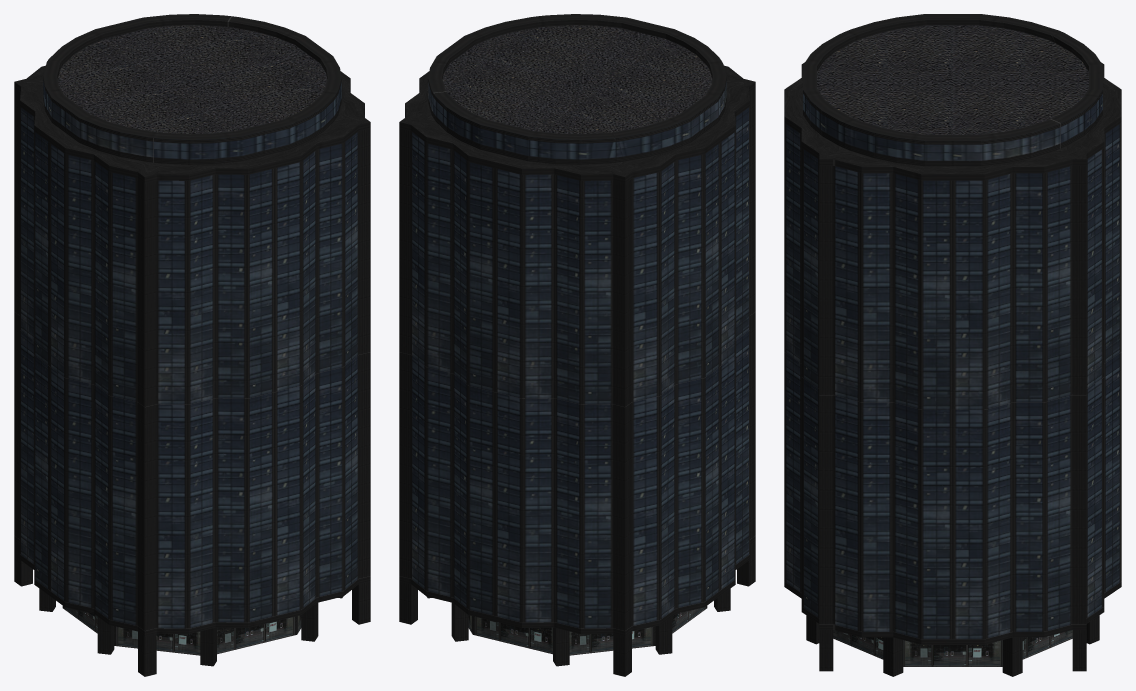
File: si_building_11.fbx
3 views of the same model, side by side, from view 1: azimuth 30°, elevation 25°; view 2: azimuth 150°, elevation 25°; view 3: azimuth 270°, elevation 25° (orthographic). The views are drawn at different scales.
Parts seen in each view (by area): view 1: si_building_11; view 2: si_building_11; view 3: si_building_11.
Part boxes in pixels (<box>): si_building_11: <box>14,14,370,676</box>; si_building_11: <box>399,14,755,676</box>; si_building_11: <box>784,14,1121,676</box>.
Size of the model in its own units: 96 by 169 by 96.
Materials: 1 (1 with a texture image).
